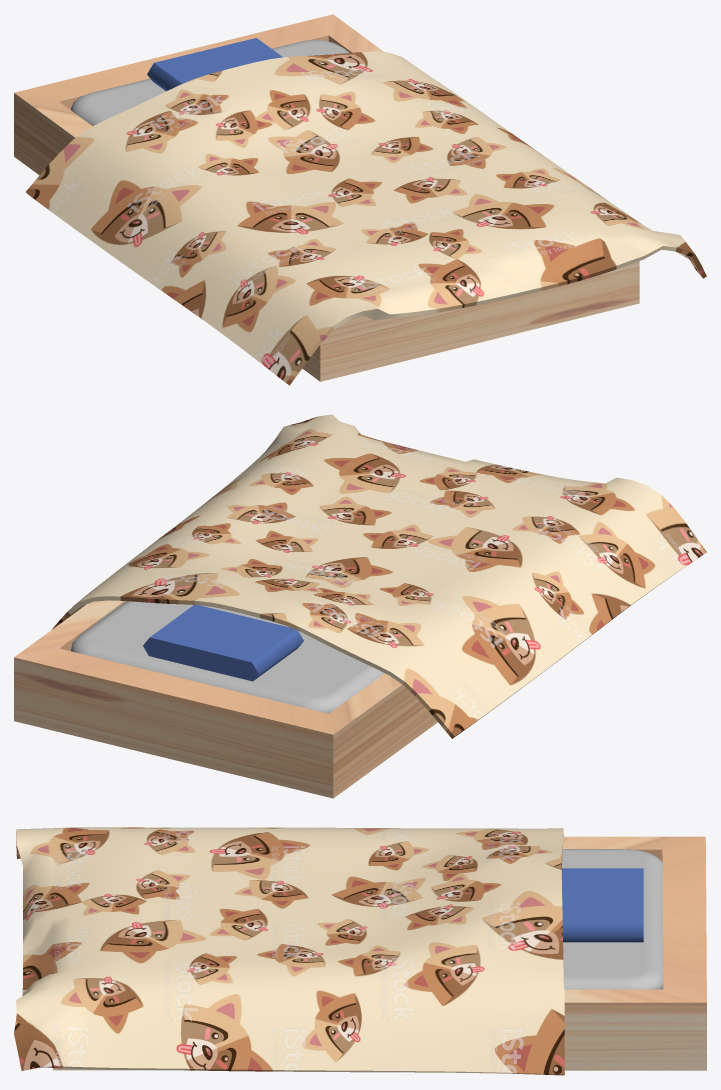
Rendered from bed_color.fbx.
The picture shows the model from 3 angles, top to bottom: view 1: azimuth 30°, elevation 25°; view 2: azimuth 150°, elevation 25°; view 3: azimuth 270°, elevation 25°; orthographic projection. The views are drawn at different scales.
Parts seen in each view (by area): view 1: pasted__polySurface2, pasted__polySurface5, pasted__polySurface3, pasted__polySurface4; view 2: pasted__polySurface2, pasted__polySurface5, pasted__polySurface3, pasted__polySurface4; view 3: pasted__polySurface2, pasted__polySurface5, pasted__polySurface3, pasted__polySurface4.
Part boxes in pixels (x1,y1,x2,y2): pasted__polySurface2: (26, 51, 706, 385); pasted__polySurface5: (14, 14, 639, 381); pasted__polySurface3: (70, 40, 349, 125); pasted__polySurface4: (147, 38, 282, 91); pasted__polySurface2: (52, 414, 706, 738); pasted__polySurface5: (14, 600, 437, 798); pasted__polySurface3: (70, 601, 384, 713); pasted__polySurface4: (143, 605, 303, 681); pasted__polySurface2: (14, 827, 564, 1075); pasted__polySurface5: (53, 836, 706, 1070); pasted__polySurface3: (562, 849, 663, 989); pasted__polySurface4: (562, 868, 643, 942).
Bounding box in the file's own units: 330 × 74.2 × 431.
4 materials, 2 textured.
